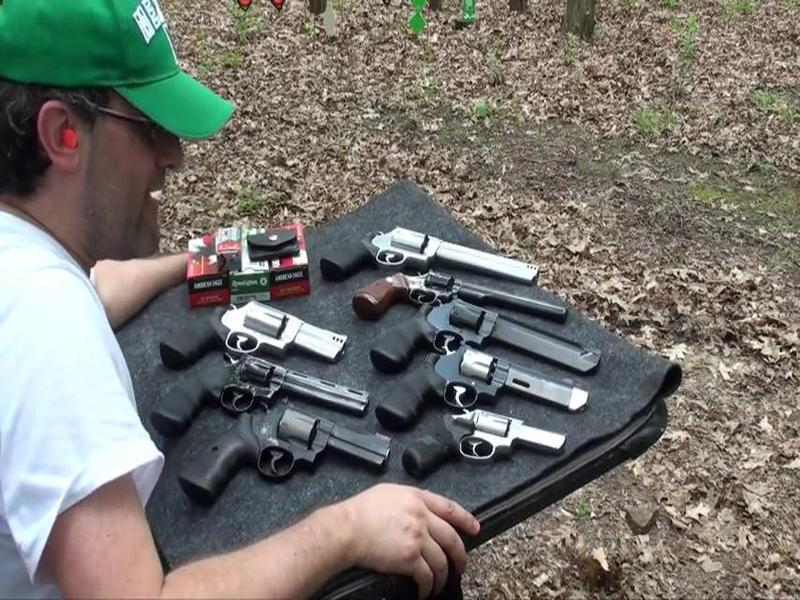Revolver: (341, 260, 577, 334)
